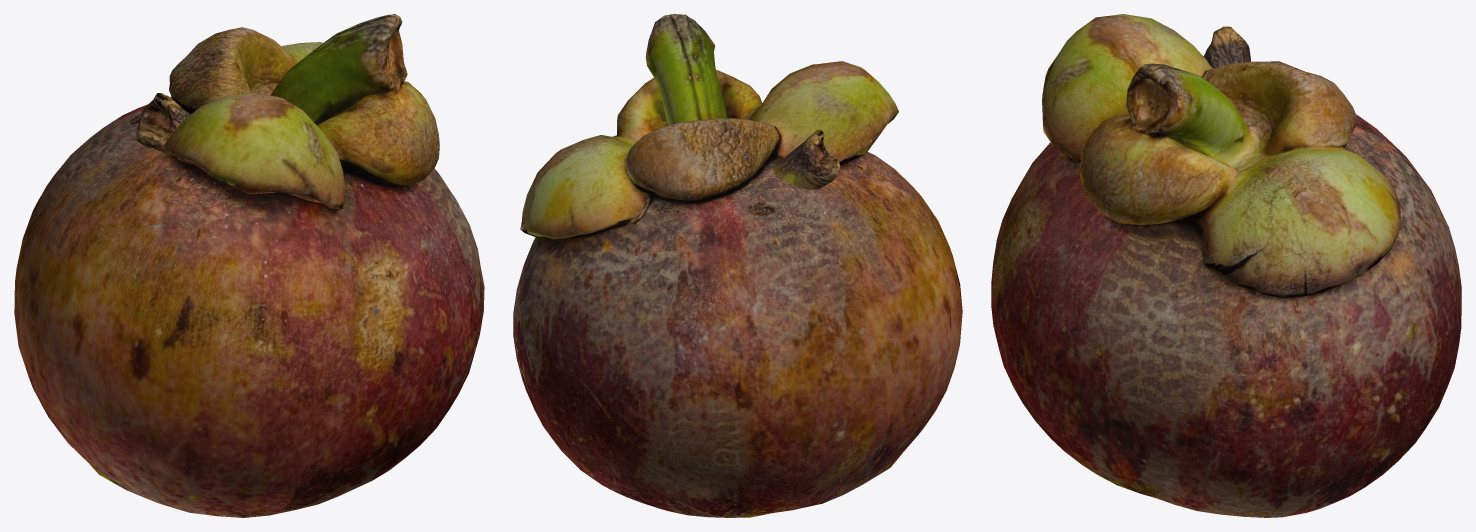
Rendered from kiri_mangoustan.gltf.
3 renders of one model, left to right at view 1: azimuth 30°, elevation 25°; view 2: azimuth 150°, elevation 25°; view 3: azimuth 270°, elevation 25°, orthographic. The views are drawn at different scales.
Visible parts, largest first — view 1: A127_Mangosteen, A129_Mangosteen; view 2: A127_Mangosteen, A129_Mangosteen; view 3: A127_Mangosteen, A129_Mangosteen.
Boxes of the visible parts, x1,y1,x2,y2 form: A127_Mangosteen: [14, 14, 484, 517]; A129_Mangosteen: [135, 93, 189, 151]; A127_Mangosteen: [513, 14, 962, 517]; A129_Mangosteen: [772, 130, 840, 189]; A127_Mangosteen: [991, 14, 1461, 517]; A129_Mangosteen: [1203, 26, 1250, 68].
Bounding box in the file's own units: 0.0689 × 0.0737 × 0.0671.
2 materials, 2 textured.
